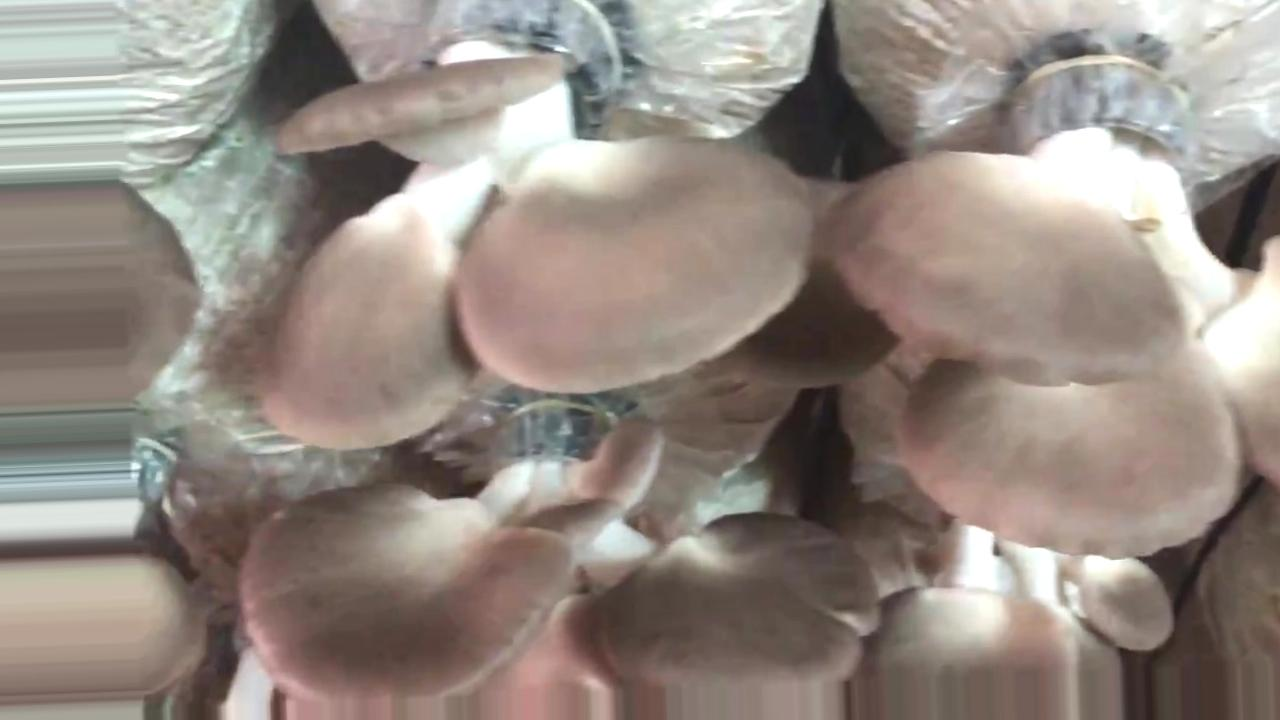nam: (259, 1, 810, 450), (831, 55, 1280, 555), (245, 403, 878, 720), (1, 184, 211, 407), (1, 538, 203, 693)
